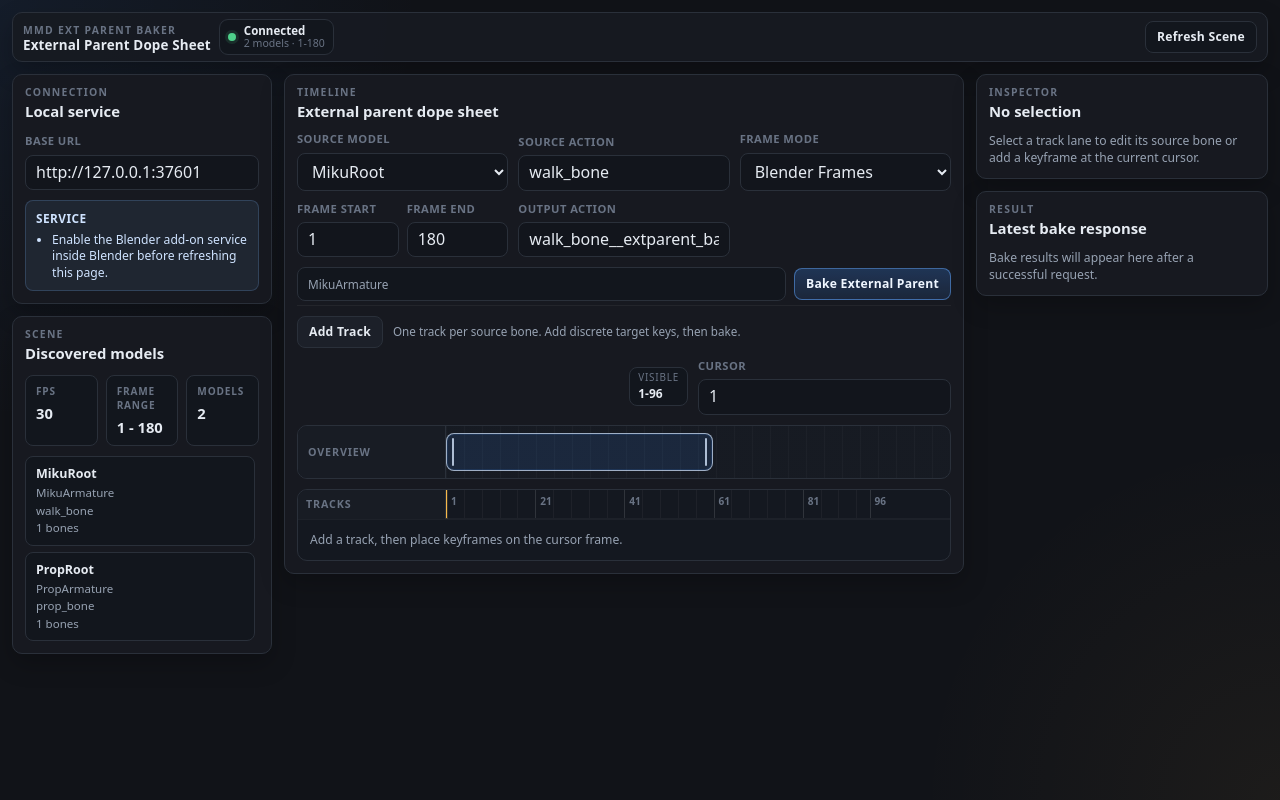
Scenario: BakerPage timeline workflow › moves track controls into a dedicated inspector and keeps rows compact
Expected: the field showing "walk_bone" is shown, [518,155,730,190]
What coordinates should you click on to do the following:
click the button "Add Track"
I would click on:
 (340, 332)
Its box is [297,316,383,348].
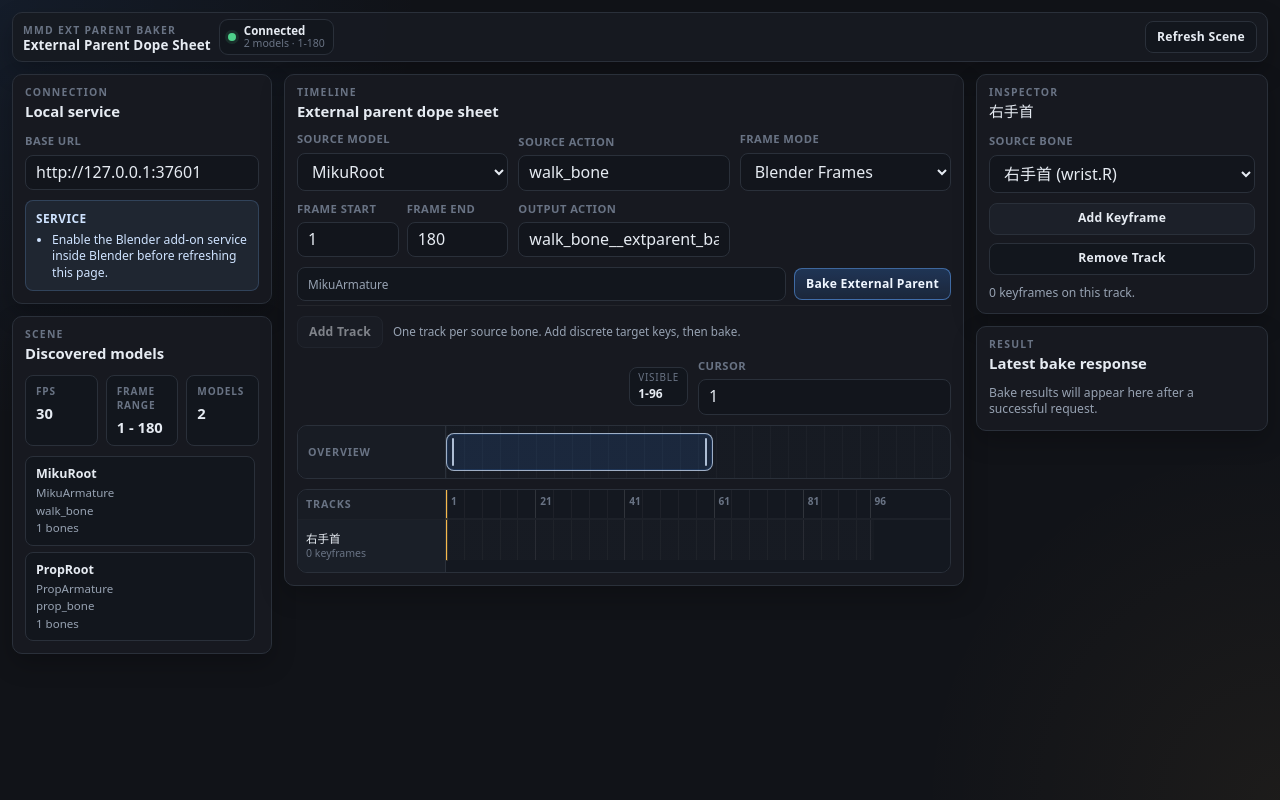
Expected: the dropdown labelled "Source Bone" is shown, [989,154,1255,192]
Expected: the button "Add Keyframe" is shown, [989,202,1255,234]
Expected: the button "Remove Track" is shown, [989,242,1255,274]
